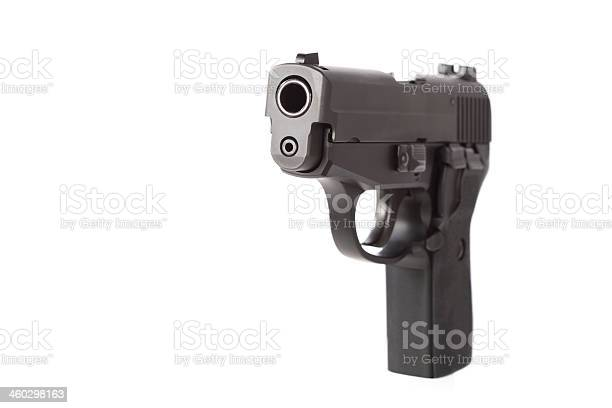weapon: (264, 51, 491, 378)
